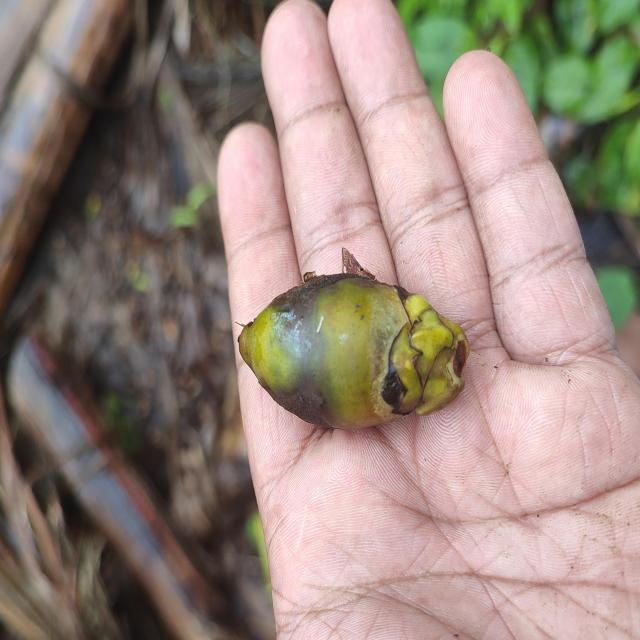damaged: (238, 273, 470, 433)
